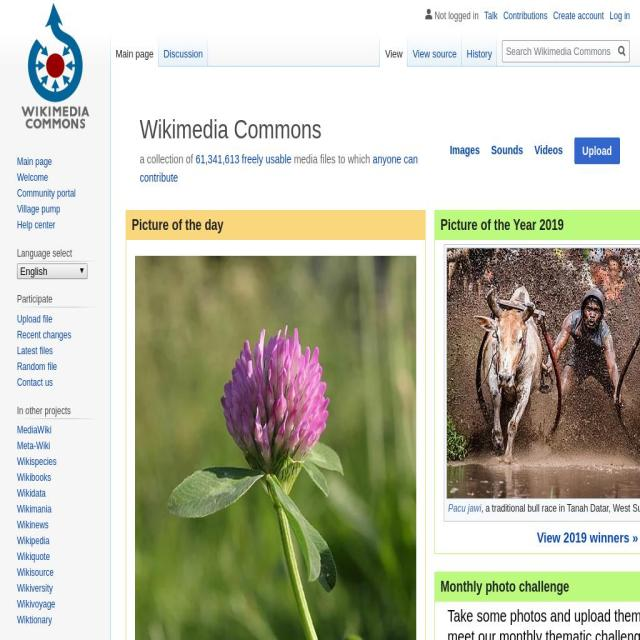button: (407, 33, 462, 67), (158, 33, 208, 67), (110, 33, 158, 67), (462, 33, 498, 67), (380, 33, 408, 67), (574, 142, 620, 156)
field: (502, 40, 630, 63), (17, 263, 88, 279), (614, 41, 630, 62)
heading: (0, 10, 113, 640), (17, 404, 99, 417), (17, 247, 99, 259), (17, 293, 99, 305)
image: (135, 256, 416, 640), (446, 247, 640, 498), (0, 0, 640, 67), (5, 0, 105, 133)
link: (140, 152, 418, 184), (536, 530, 638, 547), (17, 328, 72, 341), (17, 187, 76, 199), (241, 152, 291, 166), (552, 10, 604, 22), (195, 152, 239, 166), (503, 10, 548, 22), (17, 203, 61, 215), (17, 218, 56, 231), (17, 598, 56, 611), (17, 344, 54, 357), (17, 360, 57, 372), (17, 456, 57, 468), (17, 424, 52, 437), (17, 503, 52, 516), (17, 614, 52, 627), (491, 142, 523, 156), (17, 376, 54, 388), (17, 567, 54, 579), (17, 583, 54, 595), (449, 142, 480, 156), (17, 313, 53, 325), (534, 142, 564, 156), (17, 155, 52, 167), (17, 472, 52, 484), (17, 519, 49, 532), (17, 440, 51, 452), (17, 551, 51, 563), (448, 503, 481, 515), (17, 535, 50, 547), (17, 171, 49, 183), (17, 488, 46, 500), (610, 10, 630, 22), (483, 10, 498, 22)
text: (140, 108, 430, 150), (126, 210, 425, 240), (447, 606, 640, 640), (435, 210, 640, 240), (435, 572, 640, 602), (480, 502, 640, 515), (574, 137, 620, 164), (291, 152, 373, 166), (424, 5, 479, 22), (140, 152, 197, 166)
